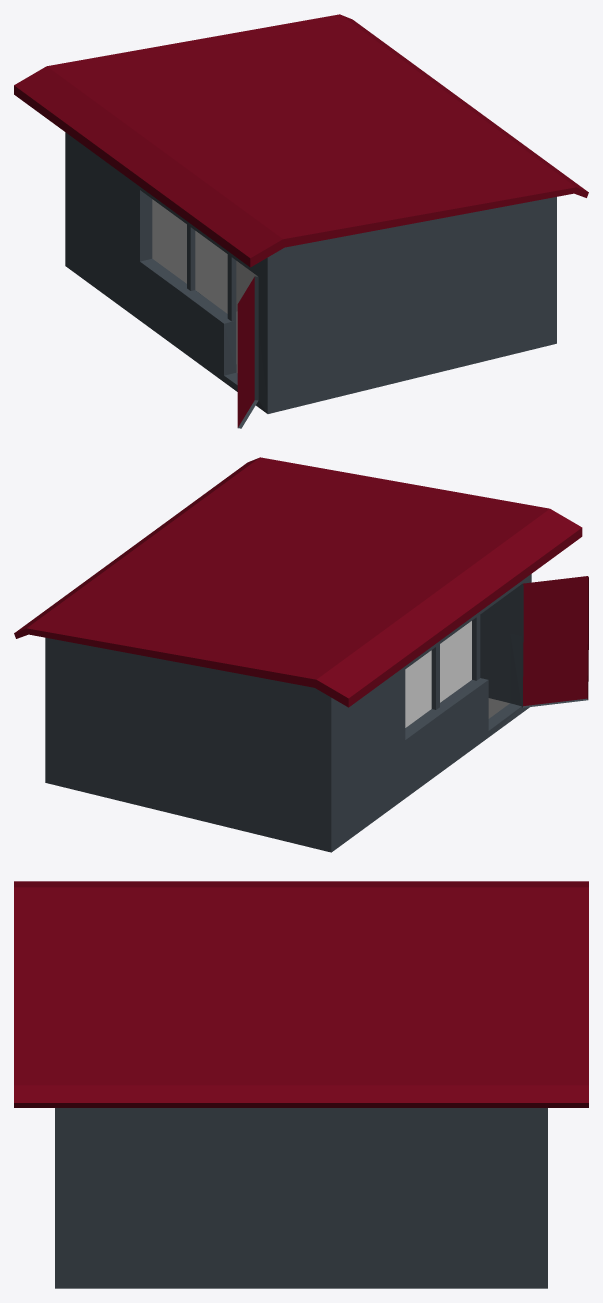
Rendered from prop_sklepik.fbx.
The picture shows the model from 3 angles, top to bottom: view 1: azimuth 30°, elevation 25°; view 2: azimuth 150°, elevation 25°; view 3: azimuth 270°, elevation 25°; orthographic projection. The views are drawn at different scales.
Visible parts, largest first — view 1: sklepik; view 2: sklepik; view 3: sklepik.
Part boxes in pixels (x1,y1,x2,y2): sklepik: (14,14,588,428); sklepik: (14,457,588,852); sklepik: (14,881,588,1288).
Size of the model in its own units: 690 by 302 by 587.
